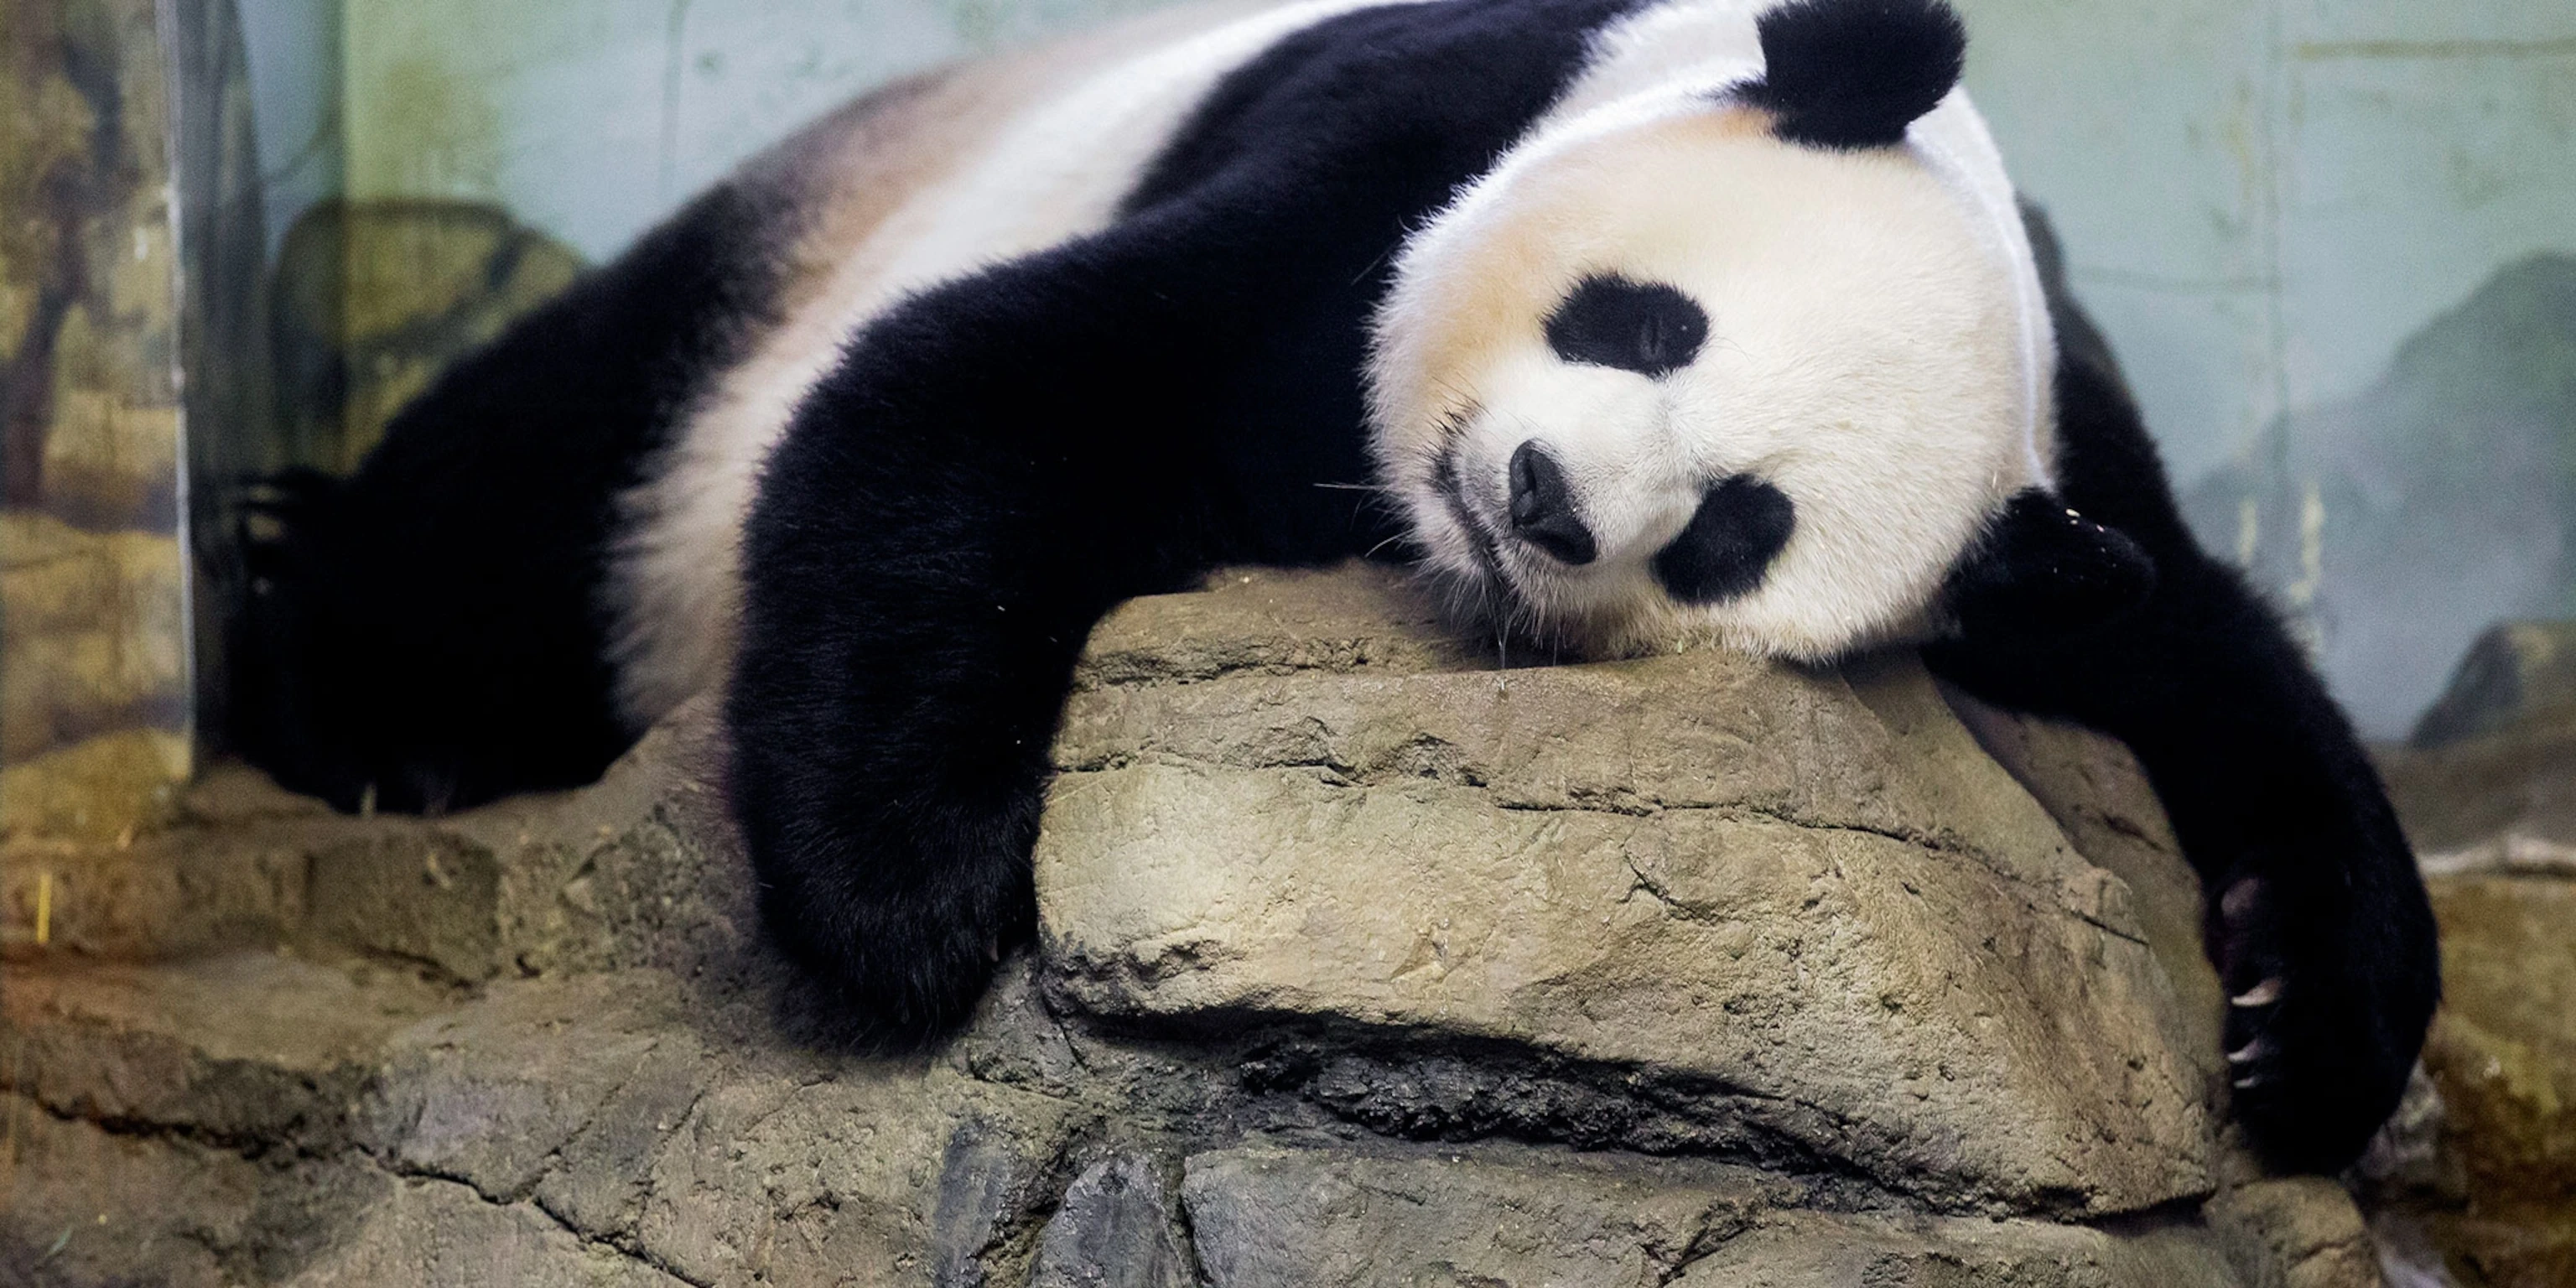panda: (577, 2, 2459, 1216)
